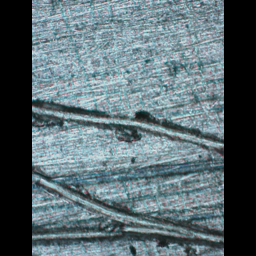d: (32, 168, 224, 247), (32, 95, 224, 155)
